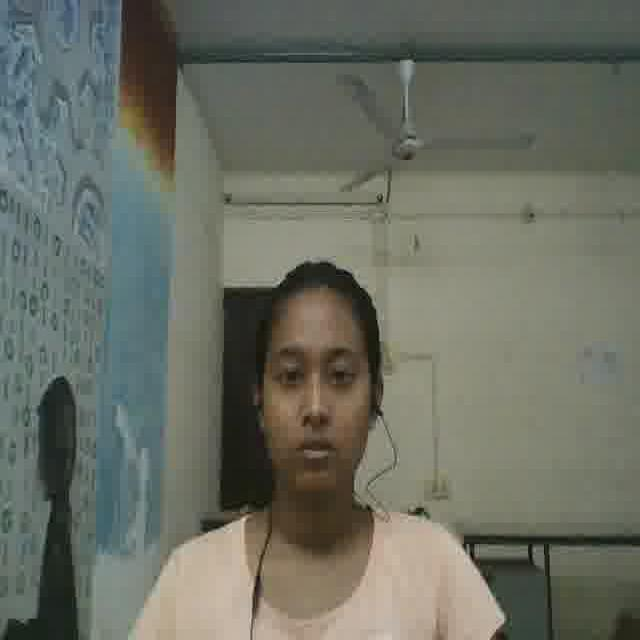Frustration: (261, 304, 367, 491)
